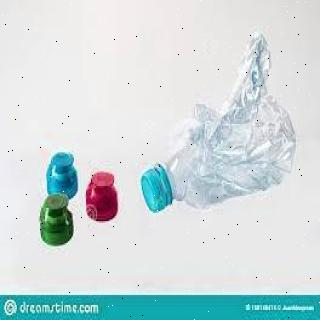Plastic-bottle: (139, 26, 299, 231)
